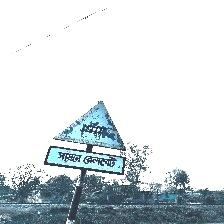Rail-crossing: (46, 101, 127, 175)
